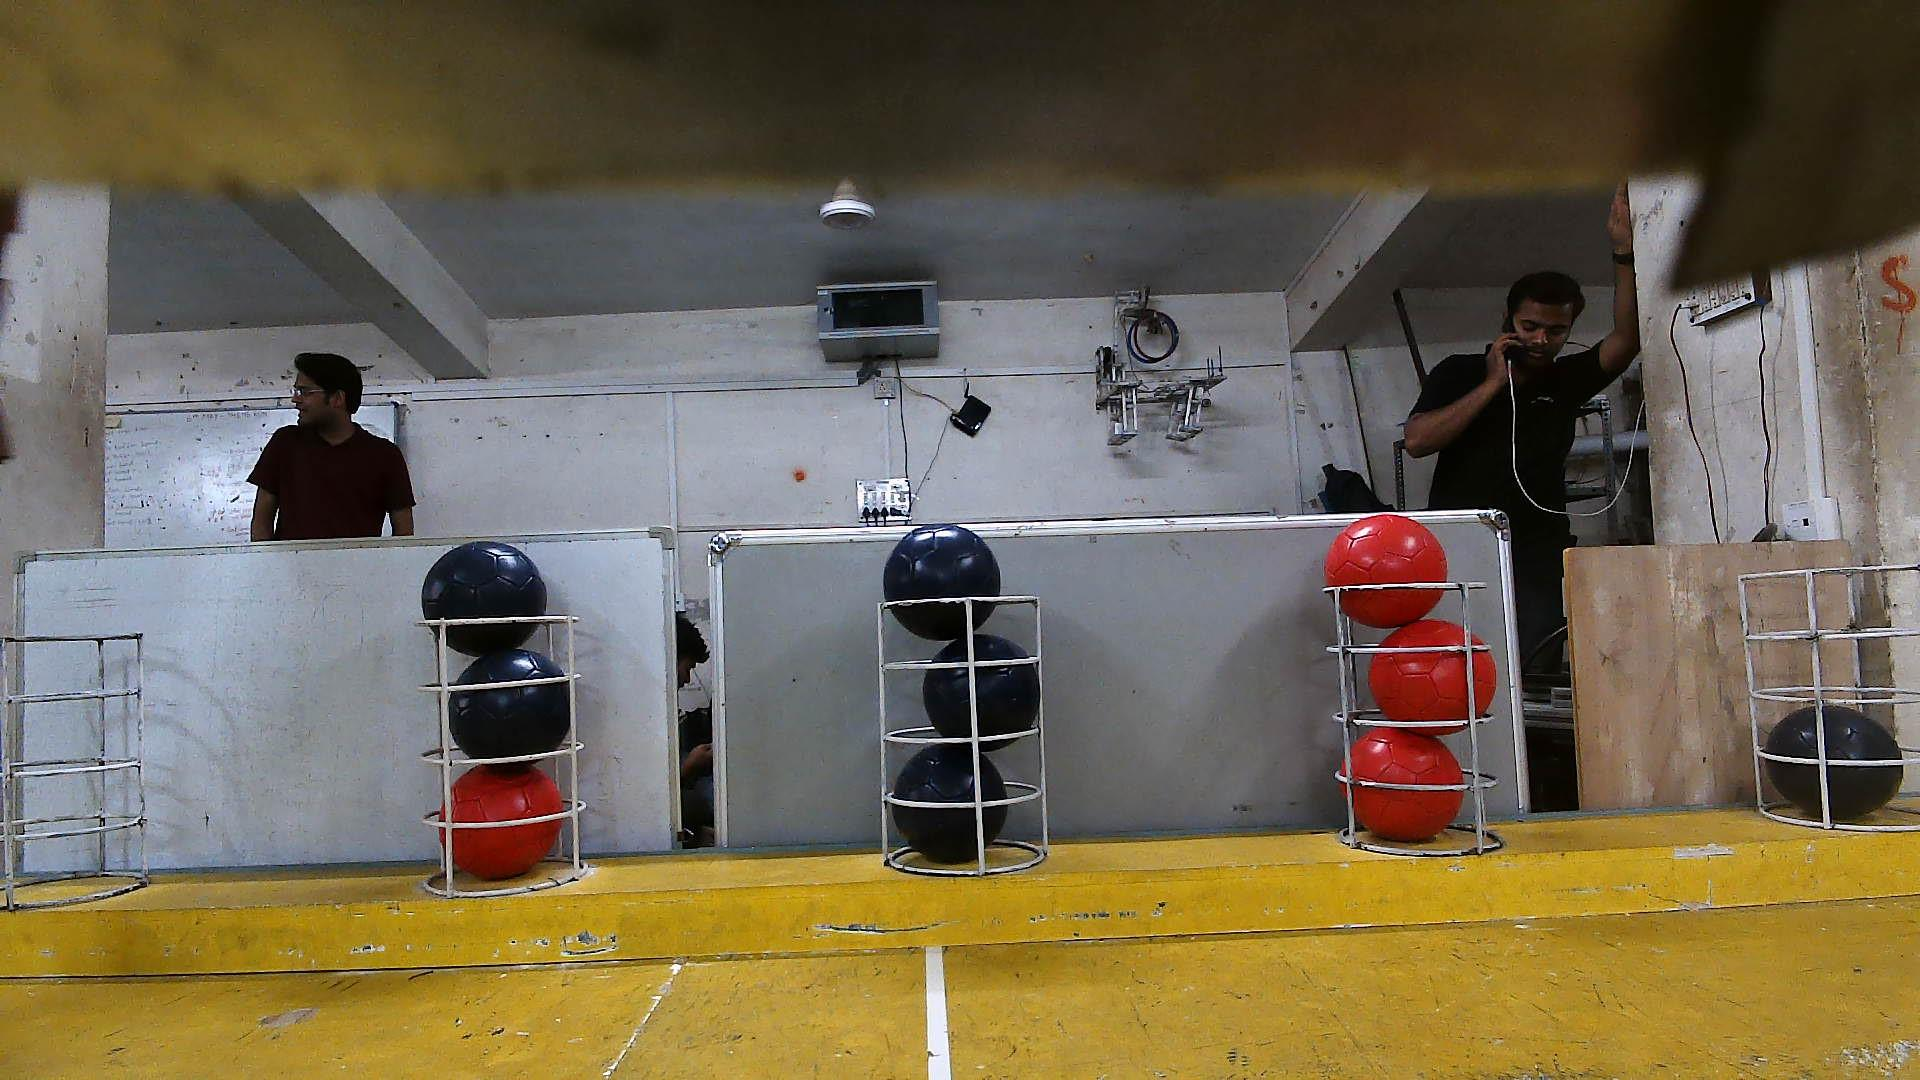dhoka: (1770, 707, 1905, 816), (426, 543, 547, 657), (923, 633, 1040, 749), (884, 525, 1000, 641), (454, 650, 568, 766), (895, 744, 1010, 858)
laale: (447, 762, 568, 878), (1325, 517, 1447, 626), (1346, 729, 1461, 844), (1371, 621, 1494, 727)
